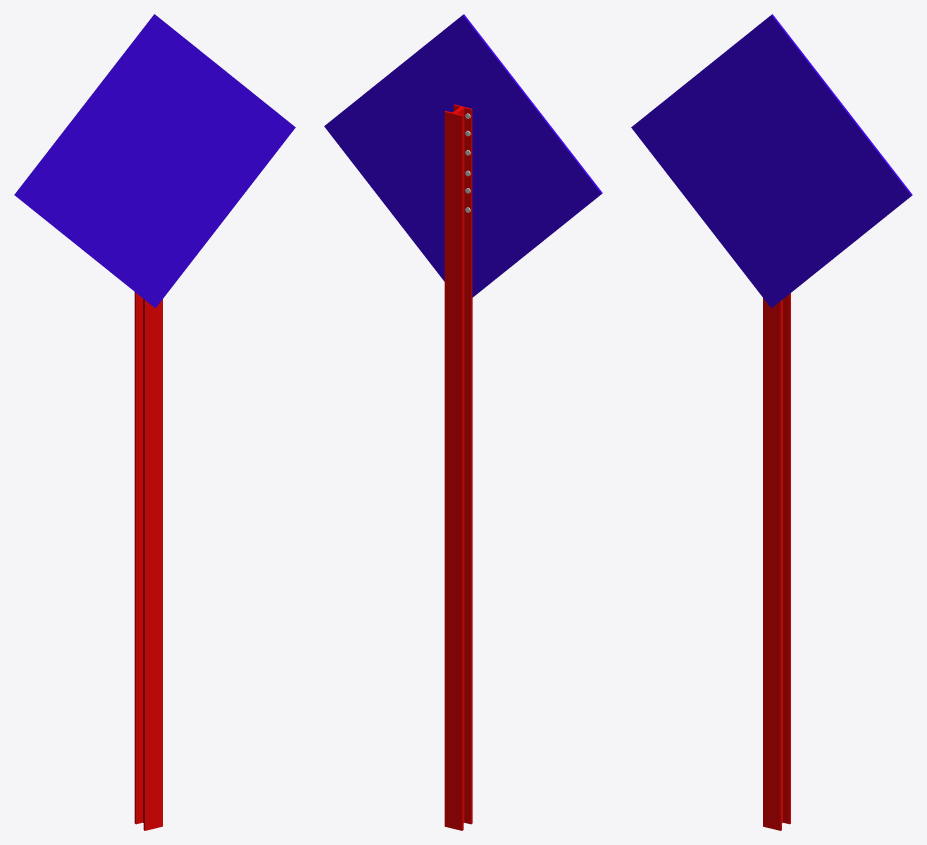
Rendered from DiamondSign.fbx.
3 renders of one model, left to right at view 1: azimuth 30°, elevation 25°; view 2: azimuth 150°, elevation 25°; view 3: azimuth 330°, elevation 25°, orthographic.
Visible parts, largest first — view 1: Cube, Cube_2; view 2: Cube, Cube_2; view 3: Cube, Cube_2.
Boxes of the visible parts, x1,y1,x2,y2 form: Cube: (14, 14, 295, 307); Cube_2: (134, 292, 162, 830); Cube: (324, 14, 602, 297); Cube_2: (444, 104, 472, 830); Cube: (631, 14, 912, 308); Cube_2: (763, 293, 790, 830).
Bounding box in the file's own units: 99.71 × 277 × 6.98.
